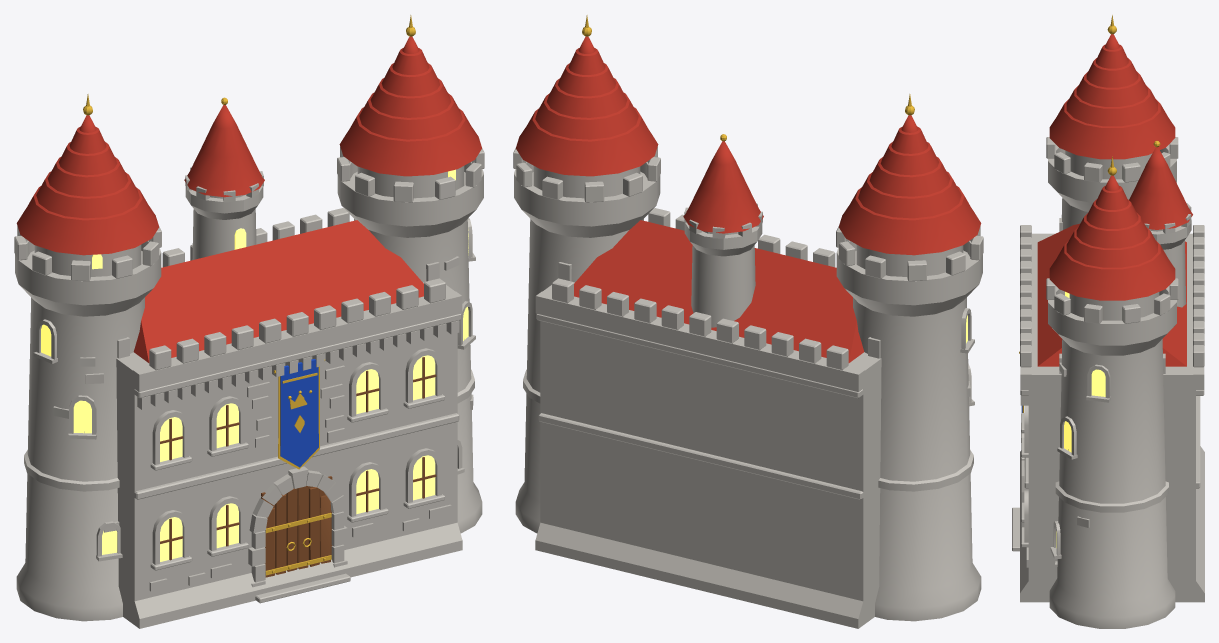
The model's file is castle_keep.glb.
The picture shows the model from 3 angles, left to right: view 1: azimuth 30°, elevation 25°; view 2: azimuth 150°, elevation 25°; view 3: azimuth 270°, elevation 25°; orthographic projection. The views are drawn at different scales.
Parts seen in each view (by area): view 1: body, banner; view 2: body; view 3: body.
Boxes of the visible parts, <box> form: body: <box>14,15,484,628</box>; banner: <box>278,359,319,469</box>; body: <box>513,15,983,628</box>; body: <box>1012,15,1204,628</box>.
Bounding box in the file's own units: 16.68 × 17.71 × 6.92.
